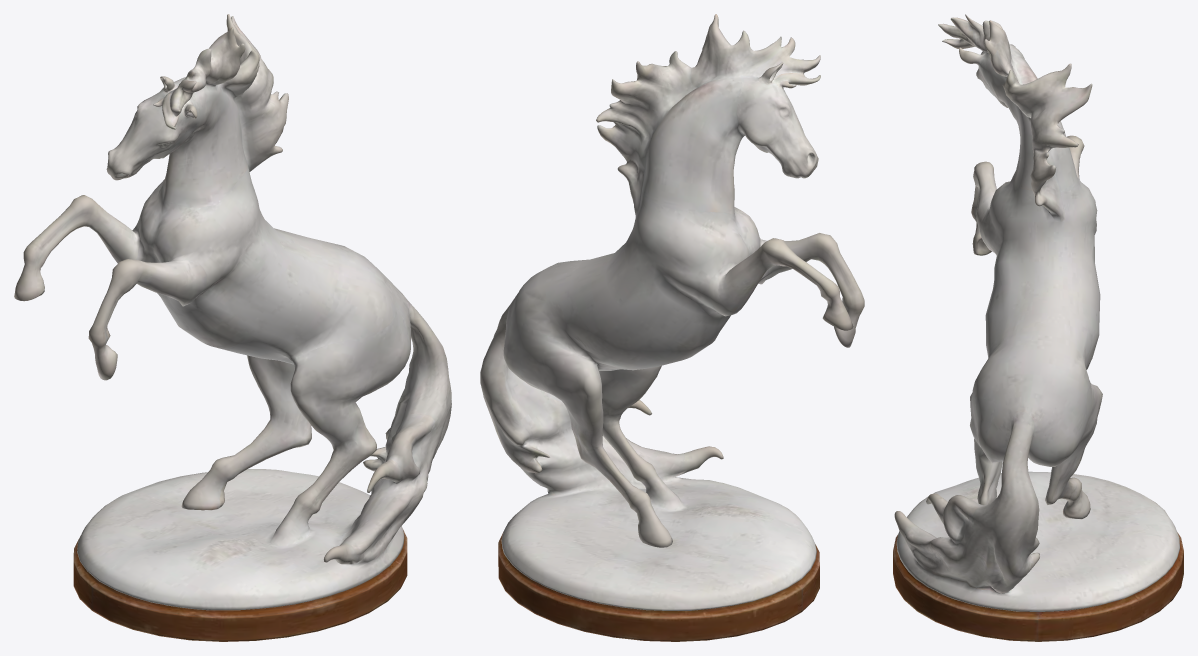
The picture shows the model from 3 angles, left to right: view 1: azimuth 30°, elevation 25°; view 2: azimuth 150°, elevation 25°; view 3: azimuth 270°, elevation 25°; orthographic projection. The views are drawn at different scales.
Visible parts, largest first — view 1: fig-porcelain-horse; view 2: fig-porcelain-horse; view 3: fig-porcelain-horse.
Part boxes in pixels (bbox=[...]): fig-porcelain-horse: bbox=[14, 14, 451, 641]; fig-porcelain-horse: bbox=[480, 14, 864, 641]; fig-porcelain-horse: bbox=[893, 14, 1183, 641].
Bounding box in the file's own units: 0.1111 × 0.15 × 0.0735.
2 materials, 2 textured.
